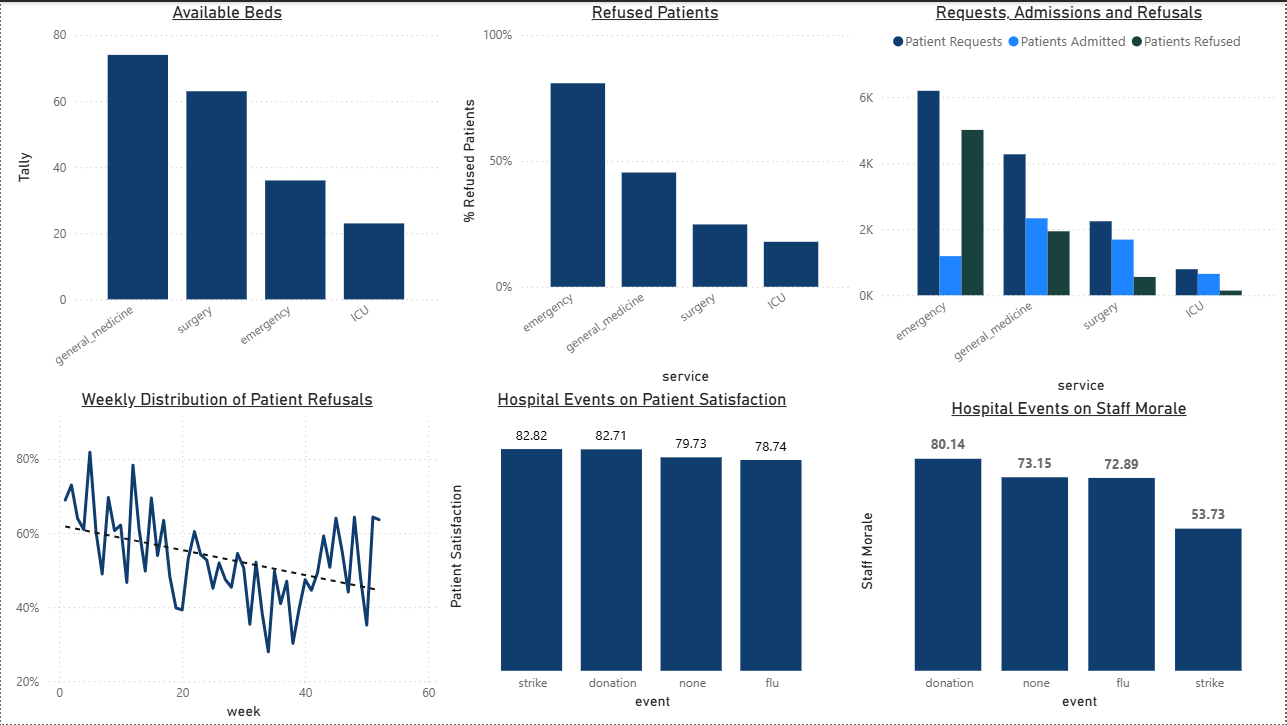

This screenshot's page, from the dashboard's own definition file:
{"tool":"powerbi","page":{"name":"Services","canvas":[1280,720],"ordinal":2},"visuals":[{"type":"clusteredColumnChart","title":"Available Beds","fields":{"Y":["Max(services_weekly.available_beds)"],"Category":["services_weekly.service"]},"box":[10,0,431.1,385.6],"z":0},{"type":"clusteredColumnChart","title":"Refused Patients","fields":{"Y":["services_weekly.refused_patients"],"Category":["services_weekly.service"]},"box":[454.2,0,397,386],"z":1000},{"type":"clusteredColumnChart","title":"Requests, Admissions and Refusals","fields":{"Y":["Sum(services_weekly.patients_request)","Sum(services_weekly.patients_admitted)","Sum(services_weekly.patients_refused)"],"Category":["services_weekly.service"]},"box":[851.1,0,428.9,394.8],"z":2000},{"type":"lineChart","title":"Weekly Distribution of Patient Refusals","fields":{"Category":["services_weekly.week"],"Y":["services_weekly.refused_patients"]},"box":[10,385.6,431.1,334.4],"z":3000},{"type":"clusteredColumnChart","title":"Hospital Events on Patient Satisfaction","fields":{"Category":["services_weekly.event"],"Y":["Avg(services_weekly.patient_satisfaction)"]},"box":[441,386,397,324],"z":4000},{"type":"clusteredColumnChart","title":"Hospital Events on Staff Morale","fields":{"Category":["services_weekly.event"],"Y":["Avg(services_weekly.staff_morale)"]},"box":[851,395,429,315],"z":5000}]}

Visuals, with their boxes in screenshot pixels (x1, y1, x2, y2), scaled from the page's 1280x720 canvas onto the 1287x725 screenshot:
"Available Beds" clusteredColumnChart: 10/0/444/388
"Refused Patients" clusteredColumnChart: 457/0/856/389
"Requests, Admissions and Refusals" clusteredColumnChart: 856/0/1286/398
"Weekly Distribution of Patient Refusals" lineChart: 10/388/444/724
"Hospital Events on Patient Satisfaction" clusteredColumnChart: 443/389/843/715
"Hospital Events on Staff Morale" clusteredColumnChart: 856/398/1286/715
